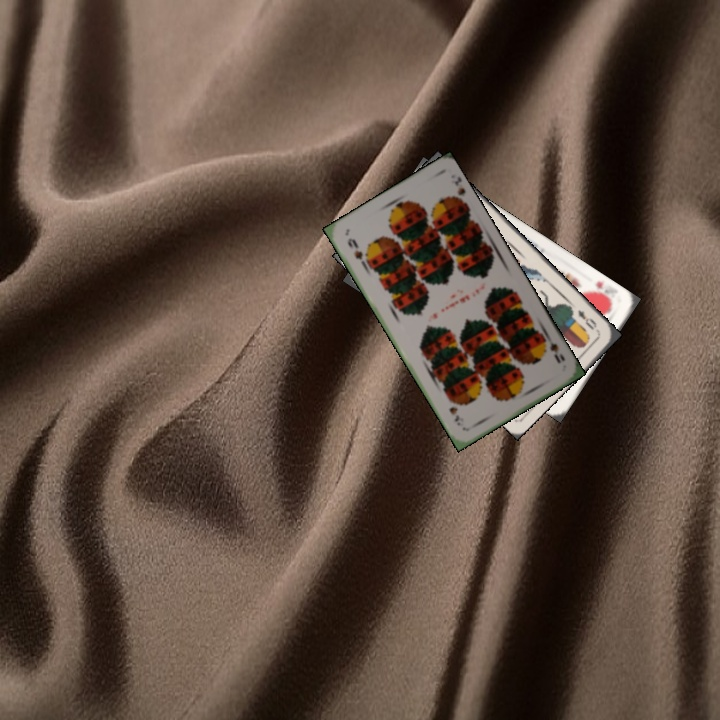EO: (573, 305, 599, 333)
HK: (589, 277, 615, 307)
S9: (538, 331, 568, 366), (343, 234, 371, 269)
